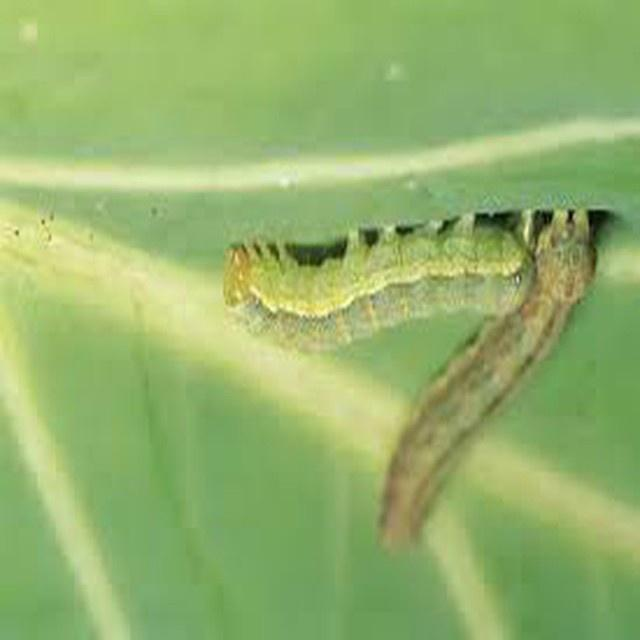gusano_cogollero: (382, 204, 595, 544), (215, 216, 533, 352)
